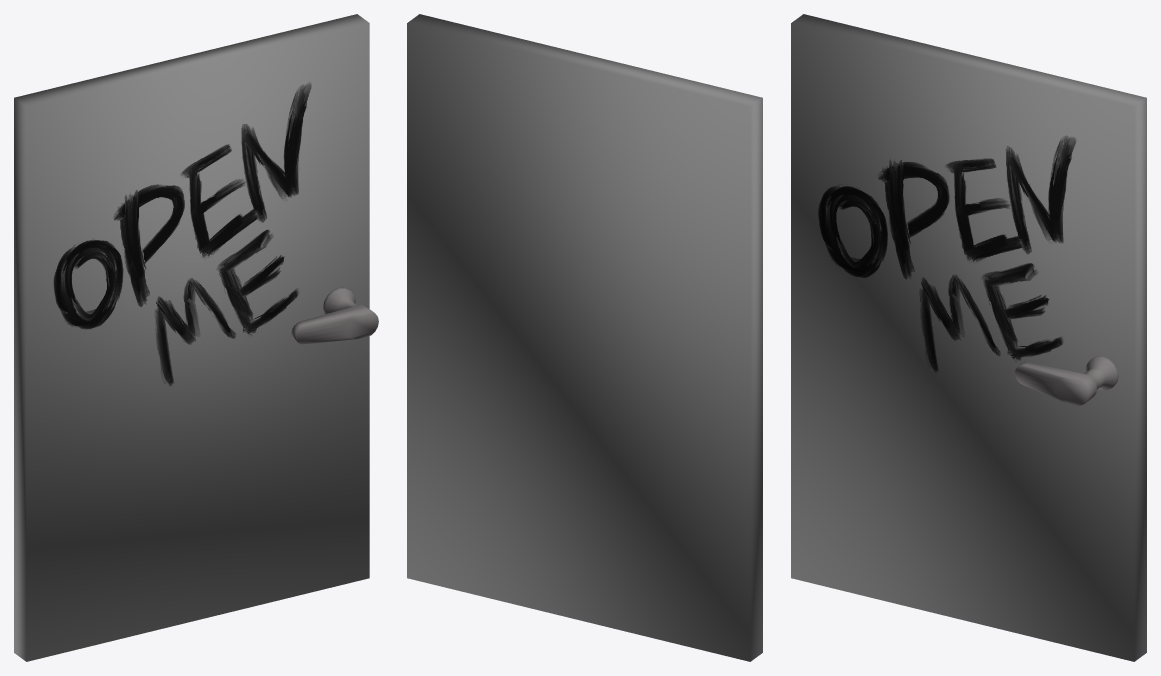
The model's file is door.glb.
The picture shows the model from 3 angles, left to right: view 1: azimuth 30°, elevation 25°; view 2: azimuth 150°, elevation 25°; view 3: azimuth 330°, elevation 25°; orthographic projection.
Parts seen in each view (by area): view 1: door, doorknob; view 2: door; view 3: door, doorknob.
Part boxes in pixels (left/top/right/bottom): door: left=14, top=14, right=369, bottom=661; doorknob: left=291, top=287, right=378, bottom=344; door: left=407, top=14, right=762, bottom=661; door: left=791, top=14, right=1146, bottom=661; doorknob: left=1015, top=356, right=1118, bottom=405.
Bounding box in the file's own units: 1.78 × 2.75 × 0.3636.
2 materials, 1 textured.
